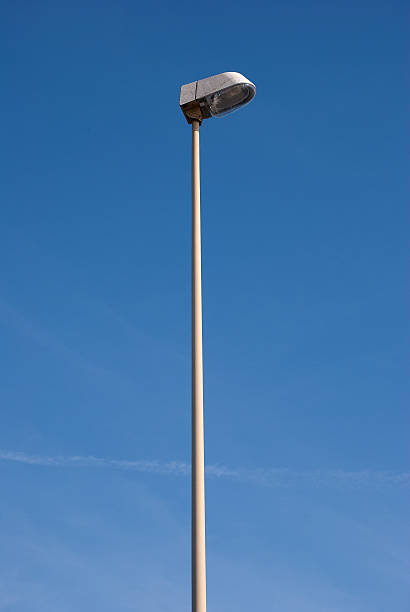light_pole: (187, 139, 208, 612)
